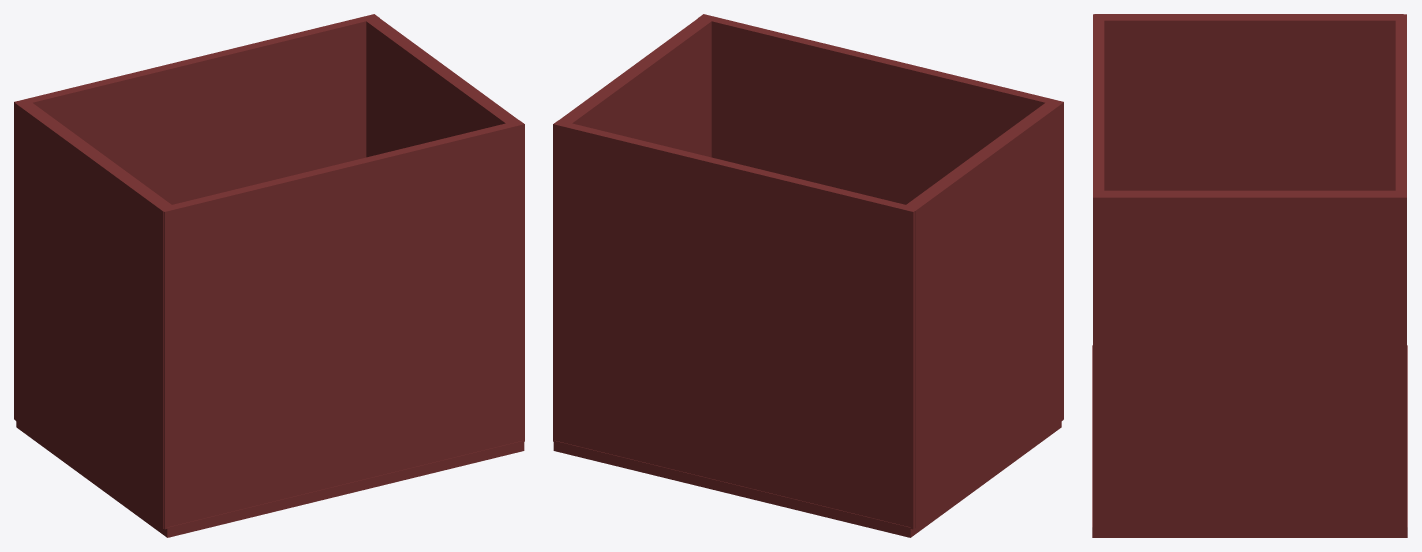
Rendered from Case_1.fbx.
3 renders of one model, left to right at view 1: azimuth 30°, elevation 25°; view 2: azimuth 150°, elevation 25°; view 3: azimuth 270°, elevation 25°, orthographic. The views are drawn at different scales.
Visible parts, largest first — view 1: Case_1; view 2: Case_1; view 3: Case_1.
Part boxes in pixels (bbox=[...]): Case_1: bbox=[14, 14, 524, 537]; Case_1: bbox=[553, 14, 1063, 537]; Case_1: bbox=[1092, 14, 1407, 537].
Bounding box in the file's own units: 54.79 × 39.74 × 47.38.
